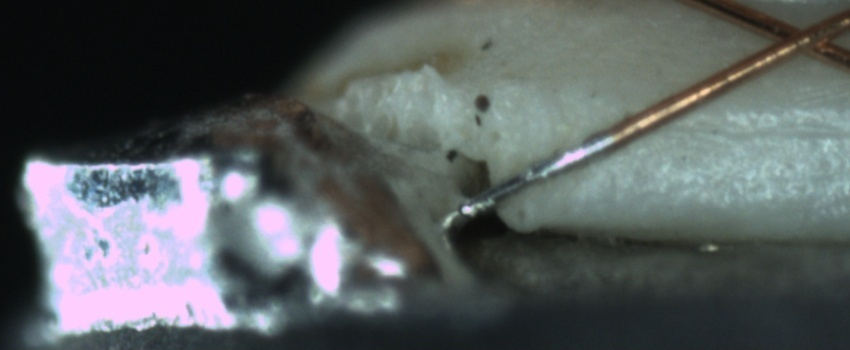CL: (748, 6, 846, 66)
DL: (663, 101, 849, 159)
TS: (459, 130, 617, 215)
